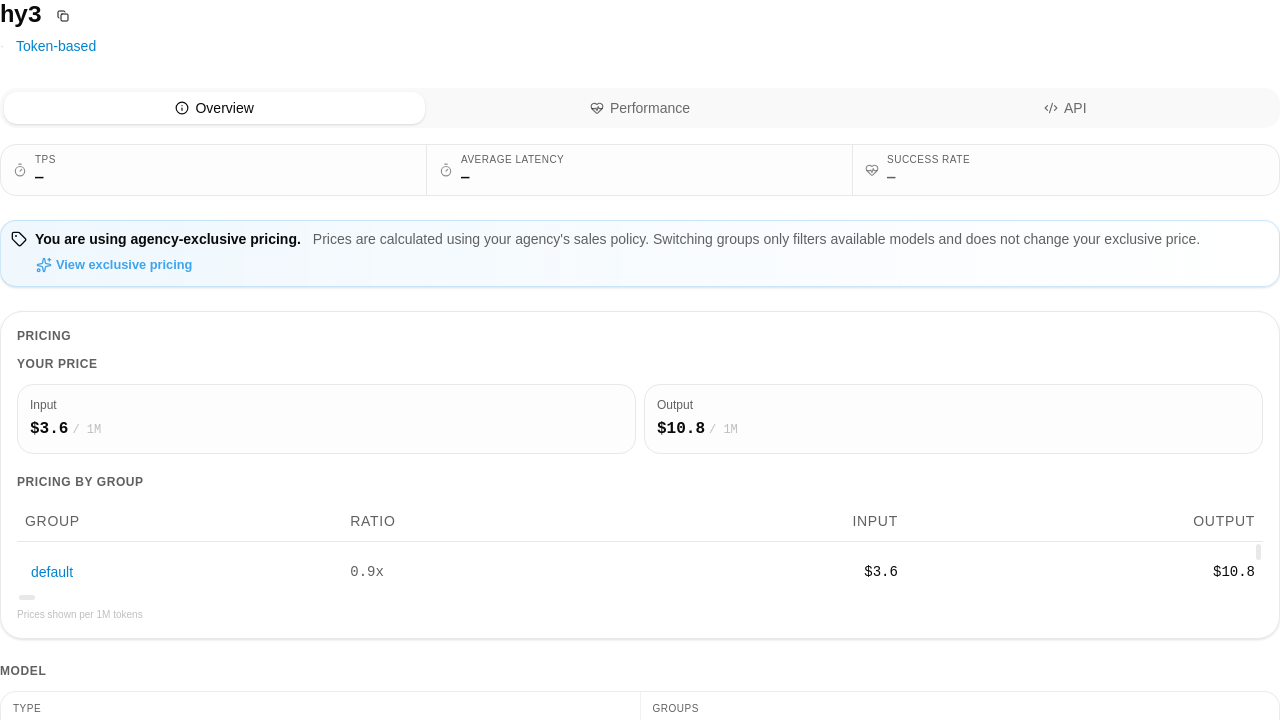
customer pricing display › shows the complete agency pricing list from a model detail drawer
Click the button "View exclusive pricing": x=114, y=265 [35,255,193,276]
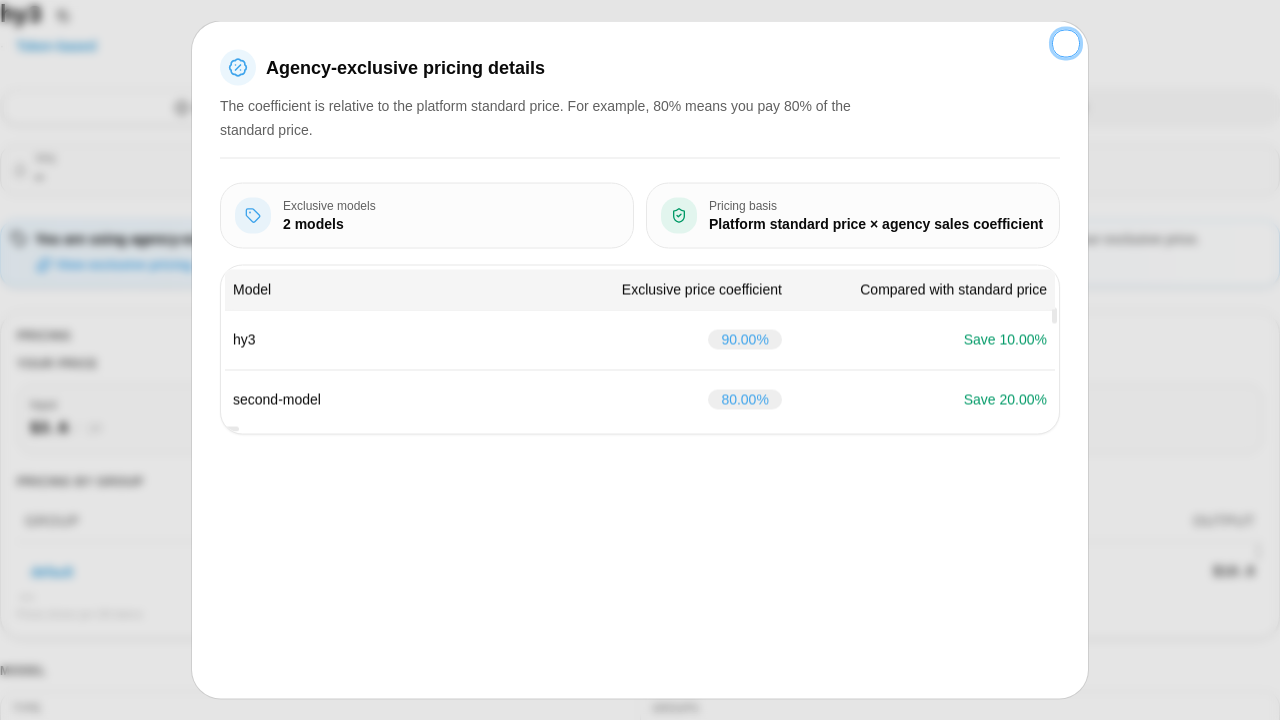
expect the dialog shows "hy3": met, box [233,332,256,348]
expect the dialog shows "second-model": met, box [233,392,321,408]
expect the dialog shows "2 models": met, box [283,216,344,232]
